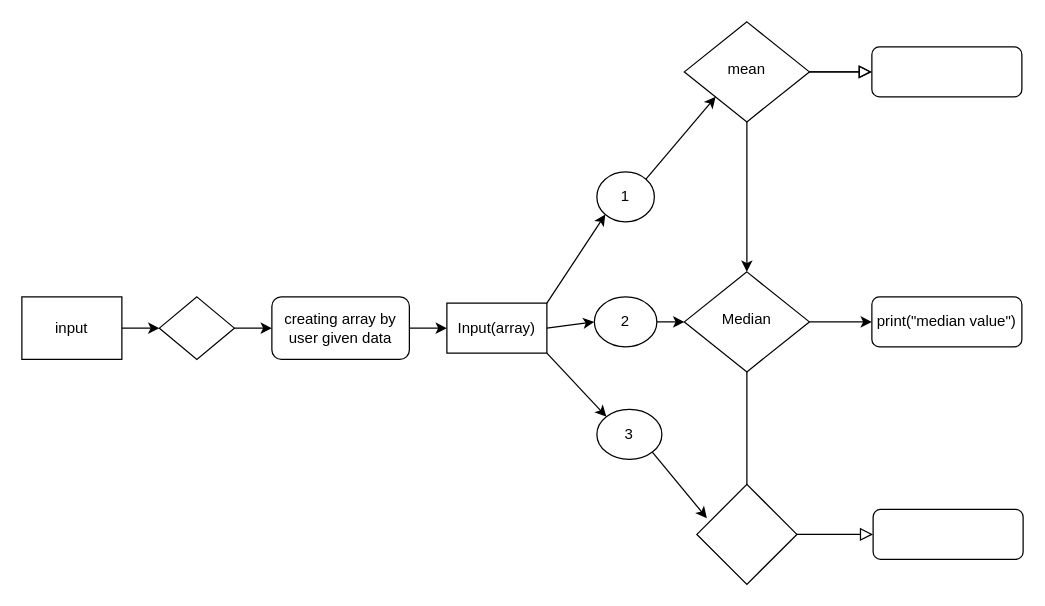
The diagram is 1045 pixels wide and 606 high, and some of its shapes have lost their labels. Each missing label, with the centre of its shape:
Count: (196,327)
mode: (746,533)
print("mean vale"): (946,71)
print("mode value"): (947,533)
